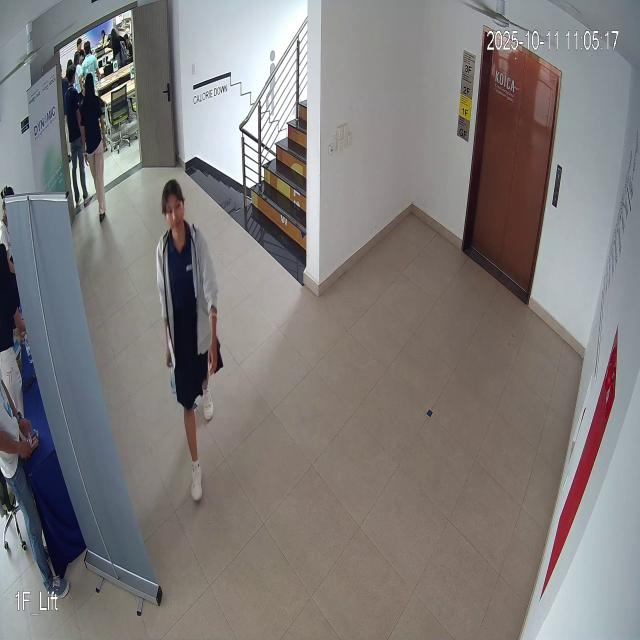face: (159, 173, 190, 243)
